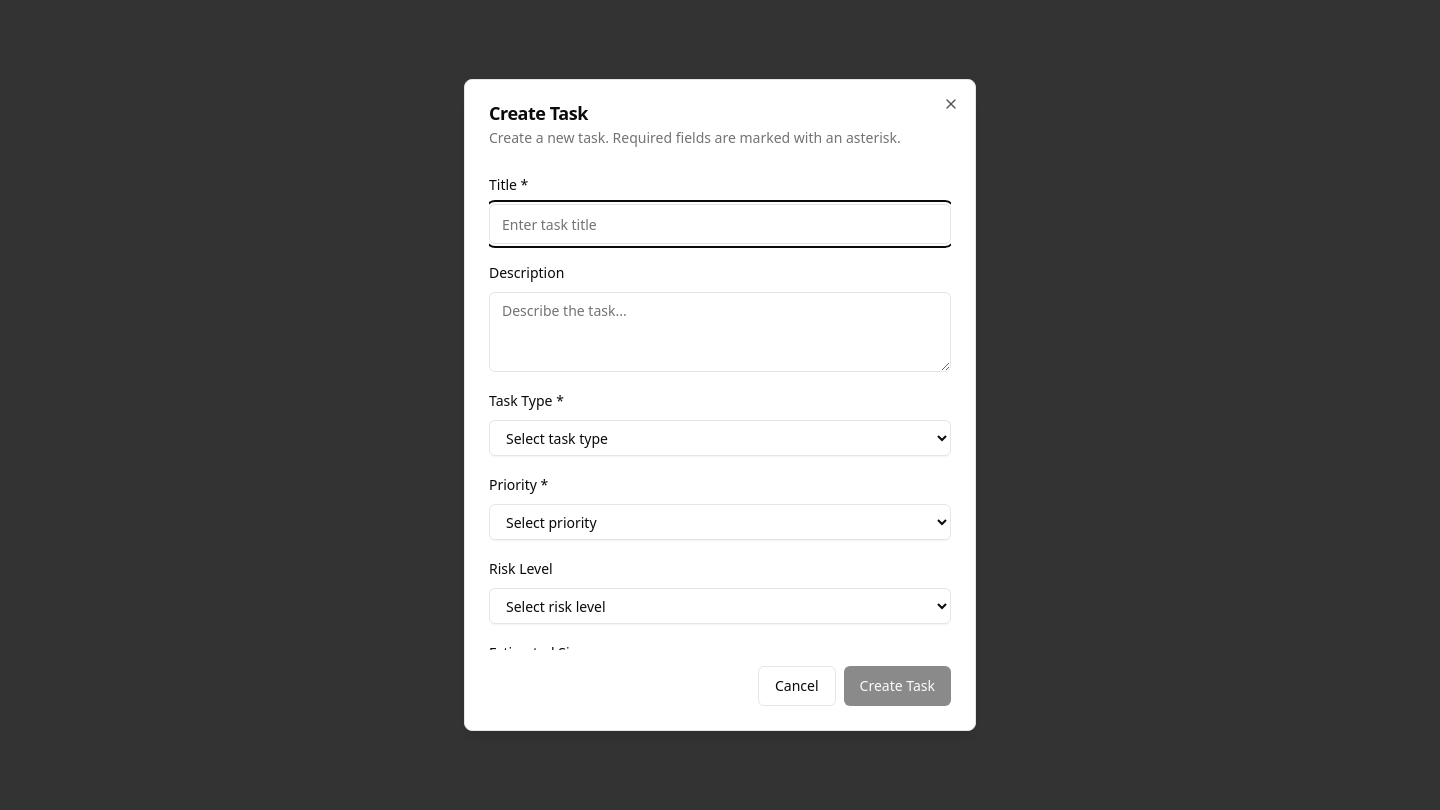
Test: CreateTaskDialog › enables submit button when all required fields are filled
The width and height of the screenshot is (1440, 810).
Type "Implement user auth" into the field with test id "create-task-title". click: (720, 224)
box: [489,204,951,244]
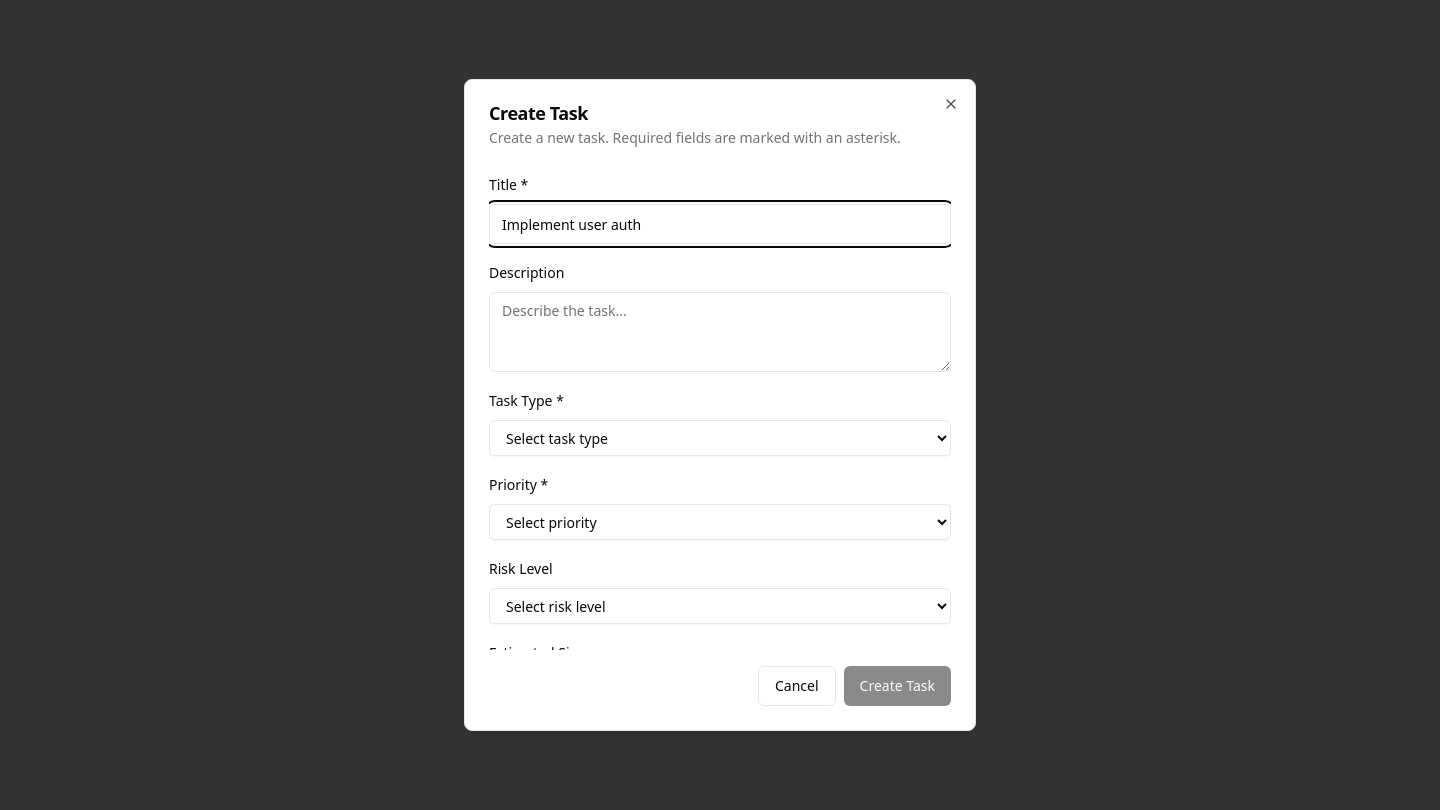
Select "Feature" in the dropdown with test id "create-task-type". click: (720, 438)
box: [489,420,951,456]
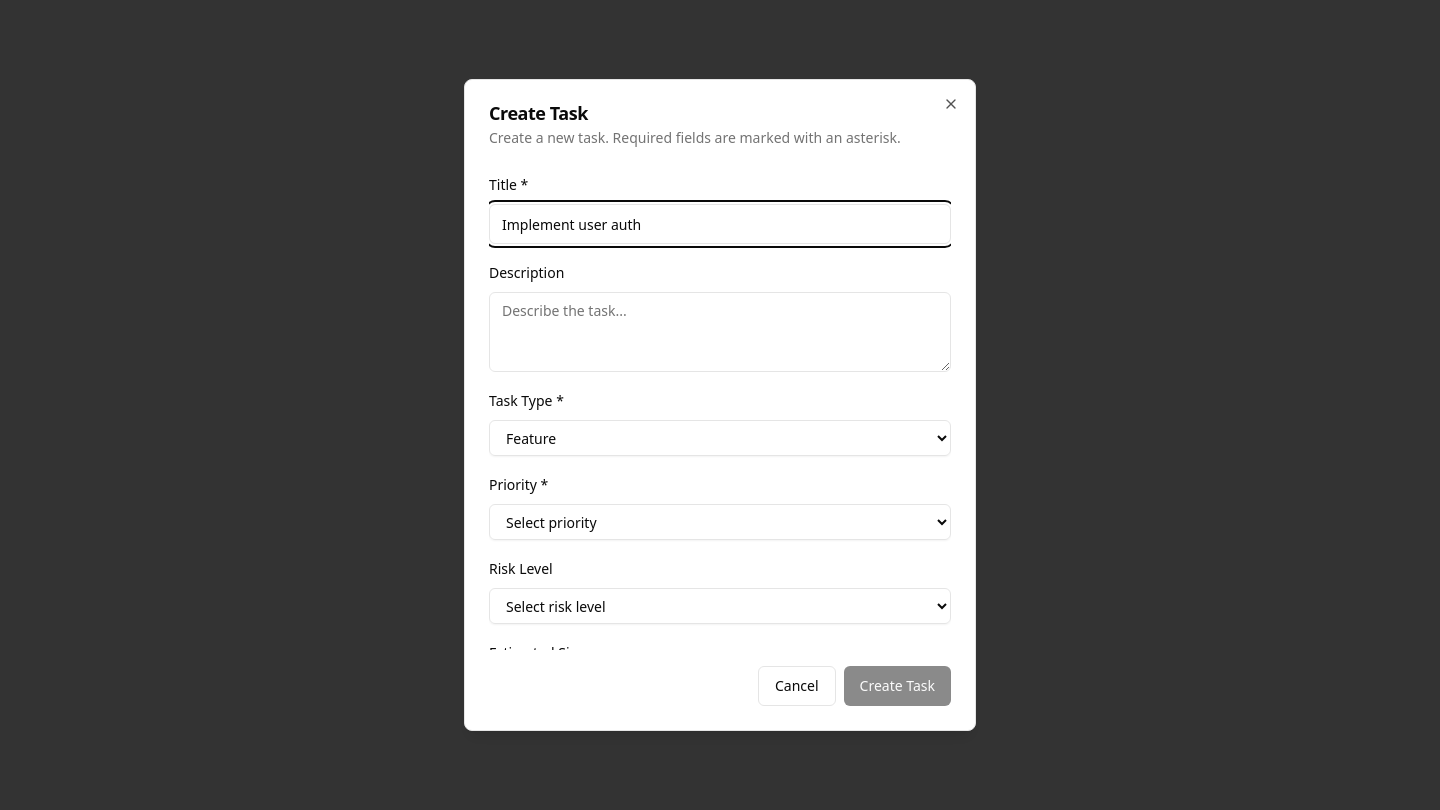
Select "High" in the dropdown with test id "create-task-priority". click: (720, 522)
box: [489,504,951,540]
(page scrolled)
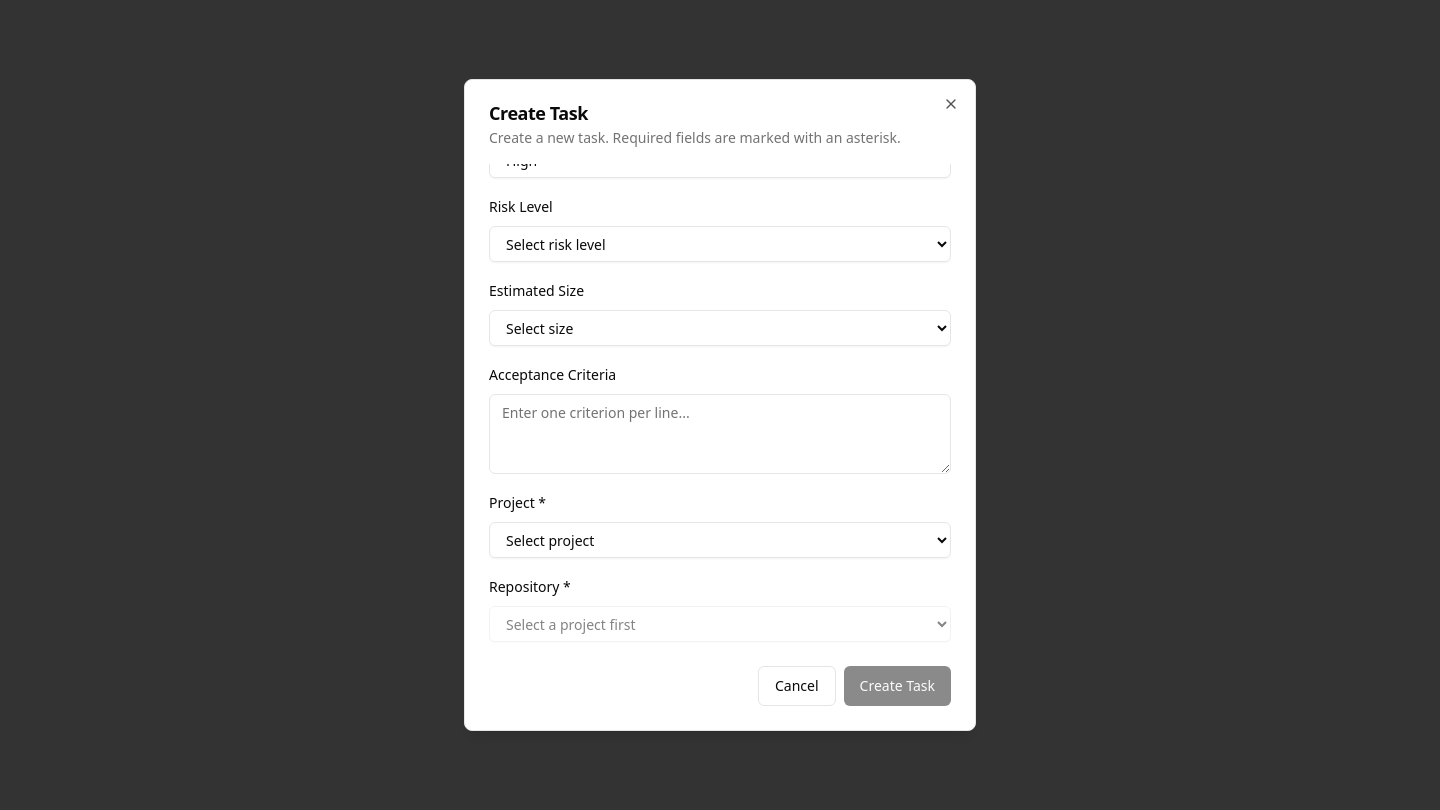
Select "Factory Core" in the dropdown with test id "create-task-project". click: (720, 540)
box: [489,522,951,558]
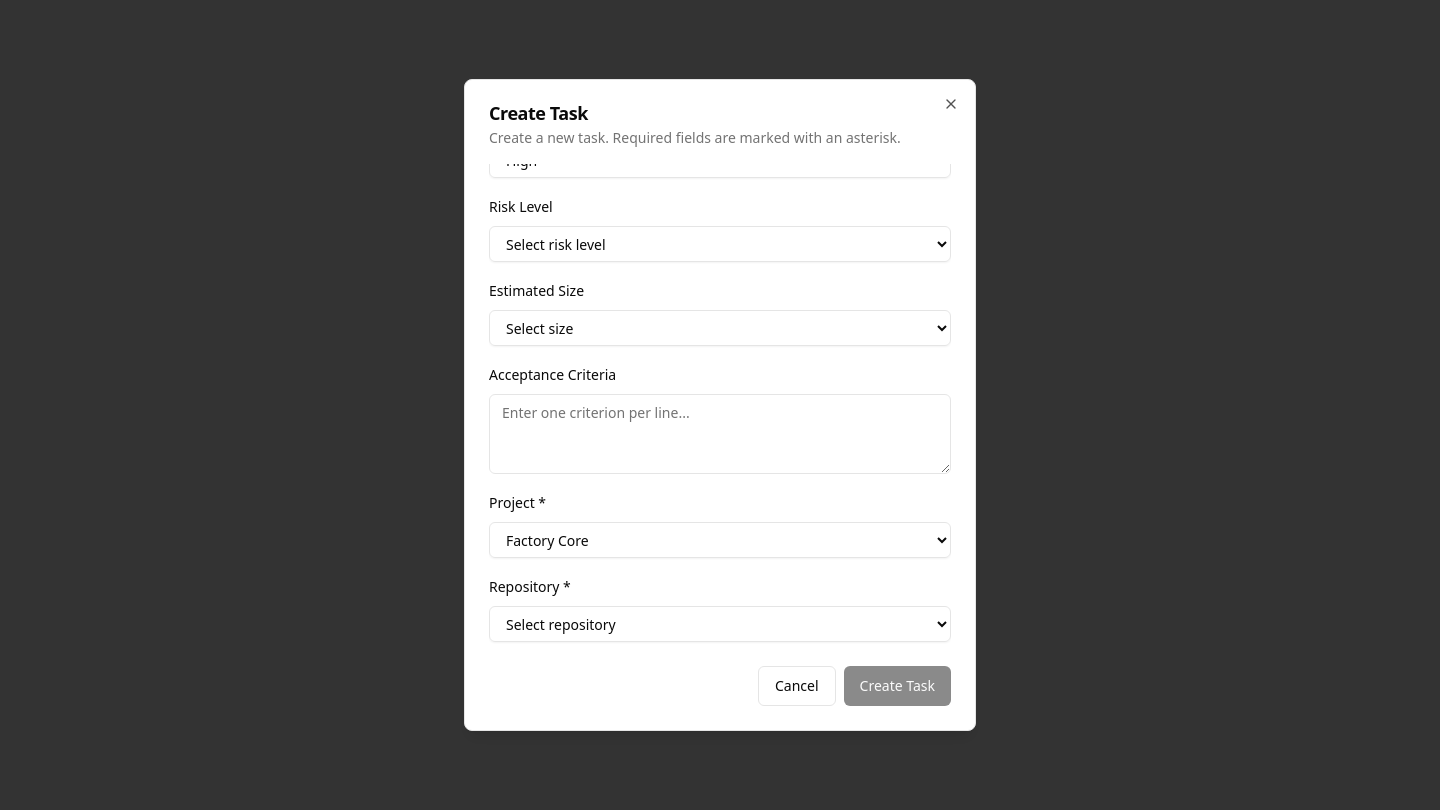
Expected: the dropdown with test id "create-task-repository" is enabled
Select "factory-backend" in the dropdown with test id "create-task-repository". click: (720, 624)
box: [489,606,951,642]
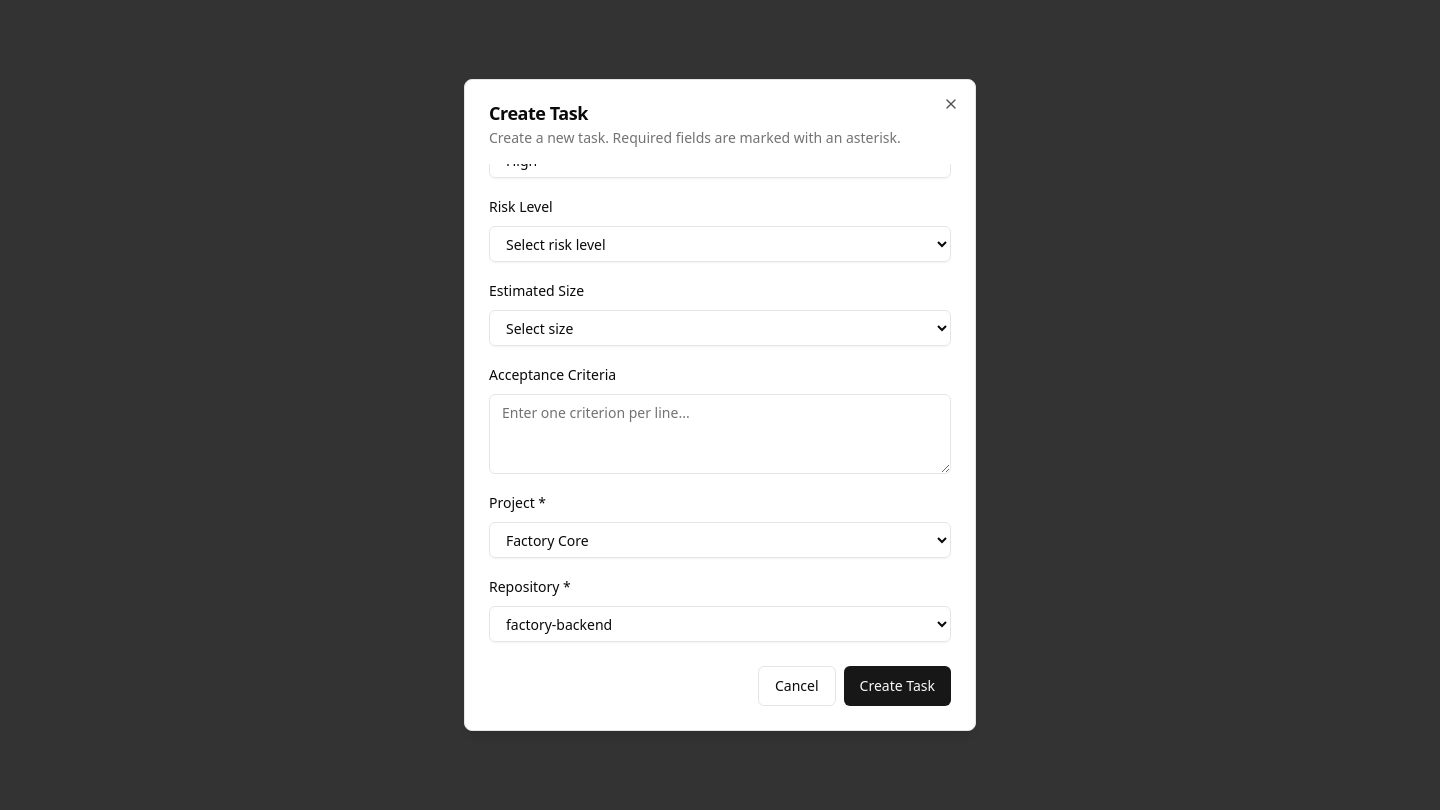
Expected: the button with test id "create-task-submit" is enabled, [844,666,951,706]
